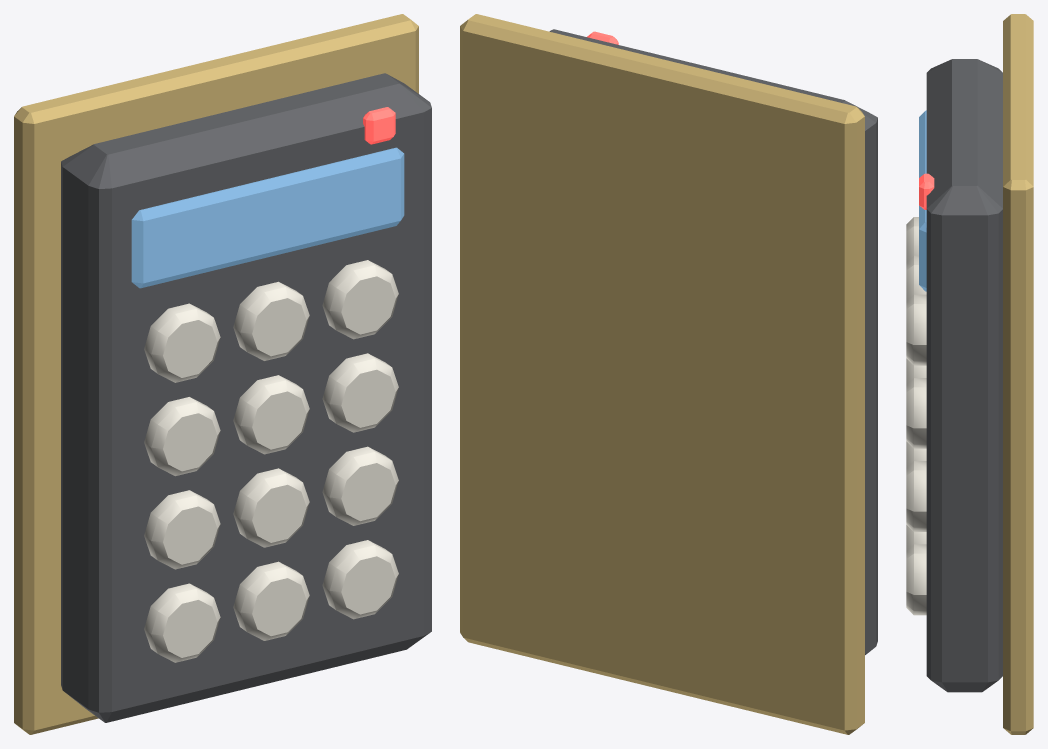
The model's file is escape-room-and-puzzle-venue-numbered-keypad-wall-plat-04c5a6b9__35786.glb.
The picture shows the model from 3 angles, left to right: view 1: azimuth 30°, elevation 25°; view 2: azimuth 150°, elevation 25°; view 3: azimuth 270°, elevation 25°; orthographic projection. The views are drawn at different scales.
Visible parts, largest first — view 1: numbered-keypad-wall-plate; view 2: numbered-keypad-wall-plate; view 3: numbered-keypad-wall-plate.
Boxes of the visible parts, <box> form: numbered-keypad-wall-plate: <box>14,14,431,734</box>; numbered-keypad-wall-plate: <box>460,14,877,734</box>; numbered-keypad-wall-plate: <box>906,14,1033,734</box>.
Size of the model in its own units: 0.16 by 0.24 by 0.05.
